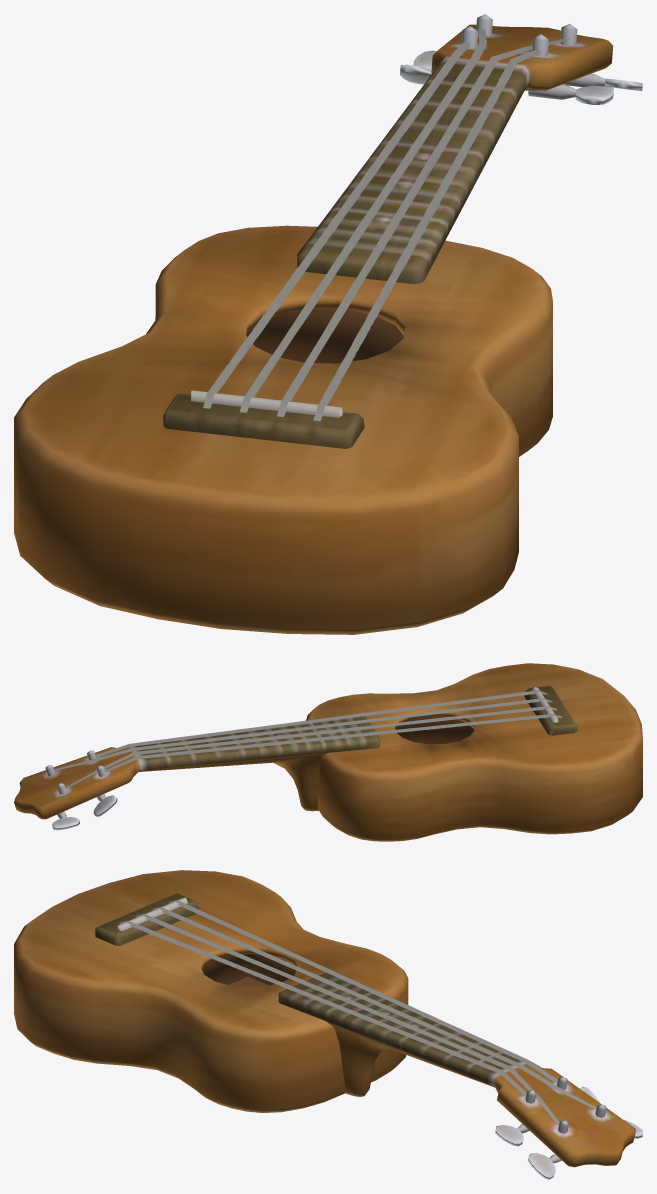
The picture shows the model from 3 angles, top to bottom: view 1: azimuth 30°, elevation 25°; view 2: azimuth 150°, elevation 25°; view 3: azimuth 270°, elevation 25°; orthographic projection. The views are drawn at different scales.
Size of the model in its own units: 8.1 by 1.37 by 8.1.
2 materials, 2 textured.
